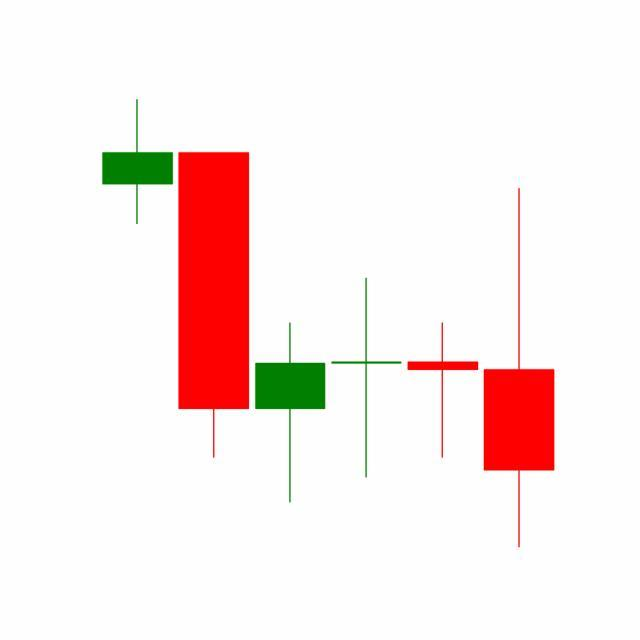Spinning Top: (404, 321, 482, 460)
